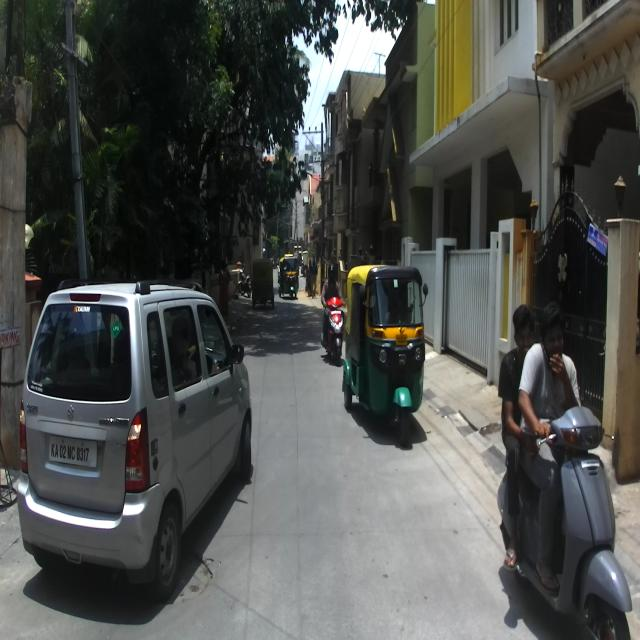auto ahead at: (345, 262, 428, 436)
car ahead at: (23, 285, 262, 599)
motorcycle ahead at: (495, 403, 640, 640)
